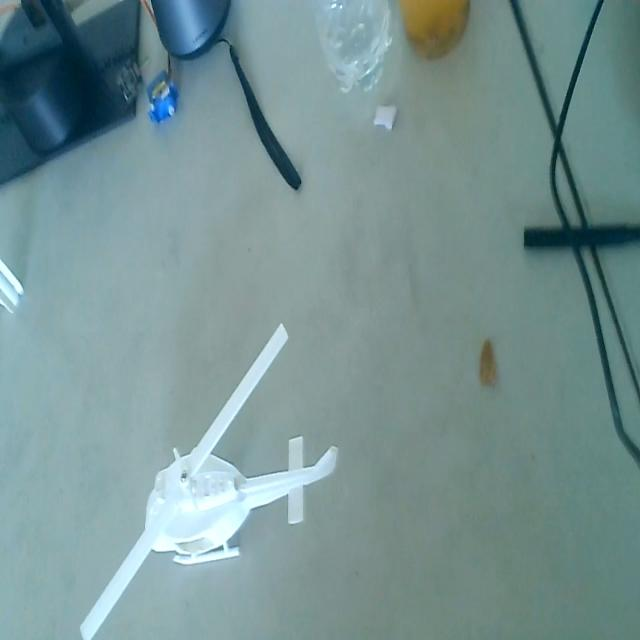Helicopter: (82, 323, 342, 638)
